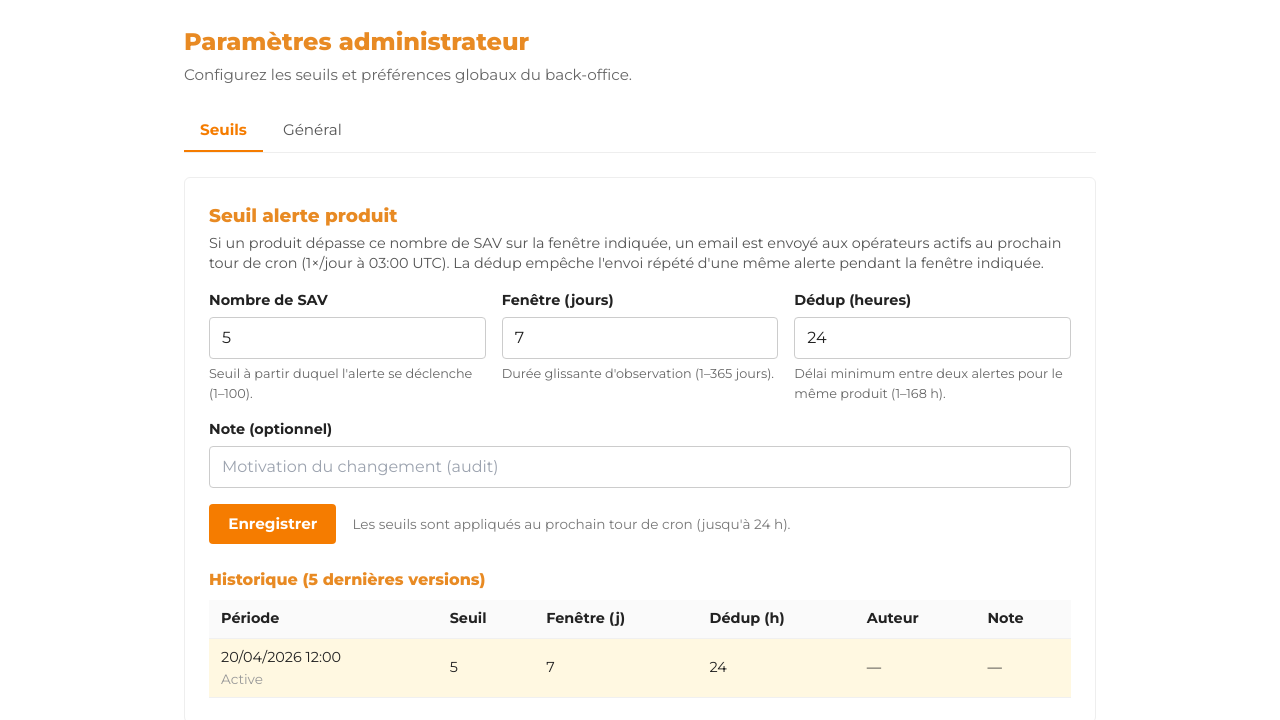
it: SettingsAdminView (UI) › Click Enregistrer → PATCH appelé avec body correct + toast success
The width and height of the screenshot is (1280, 720).
// Modifier les valeurs et soumettre.
Step 1. Replace the text in the number field with id "threshold-count" with "8" → (347, 338), box [209,317,486,359]
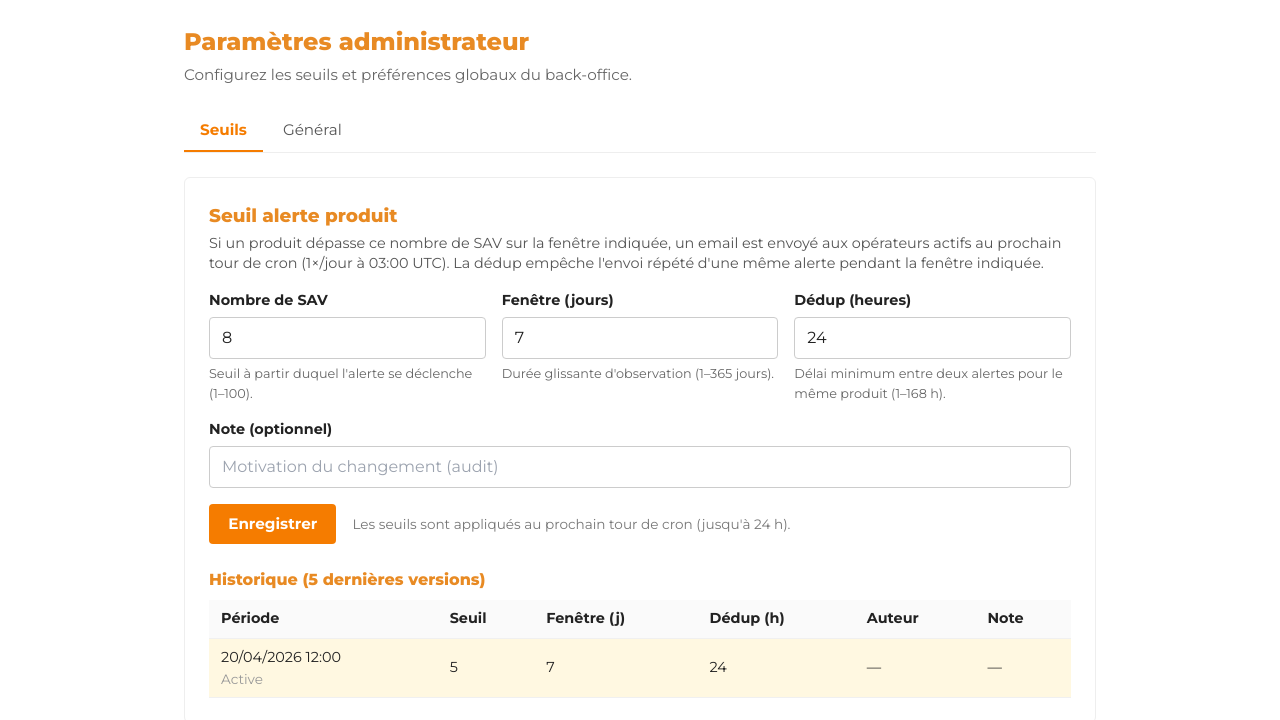
Step 2. Replace the text in the number field with id "threshold-days" with "14" → (640, 338), box [502,317,778,359]
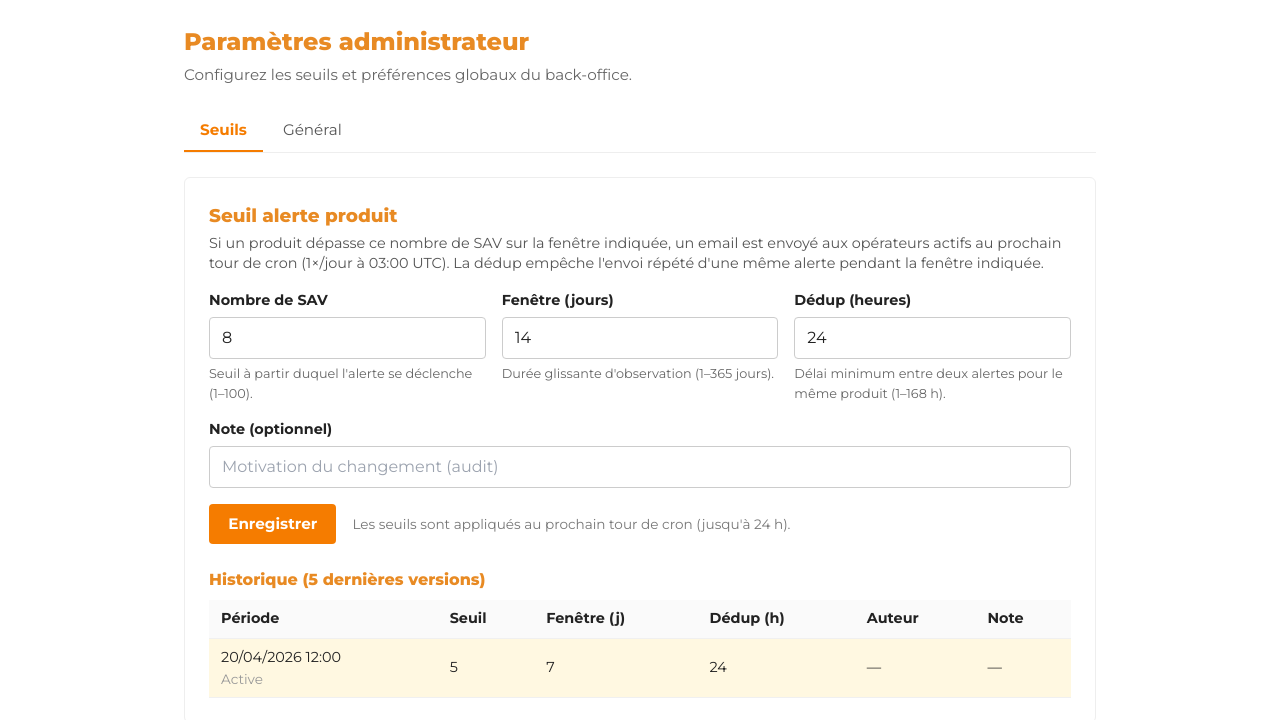
Step 3. Replace the text in the number field with id "threshold-dedup" with "48" → (933, 338), box [794,317,1071,359]
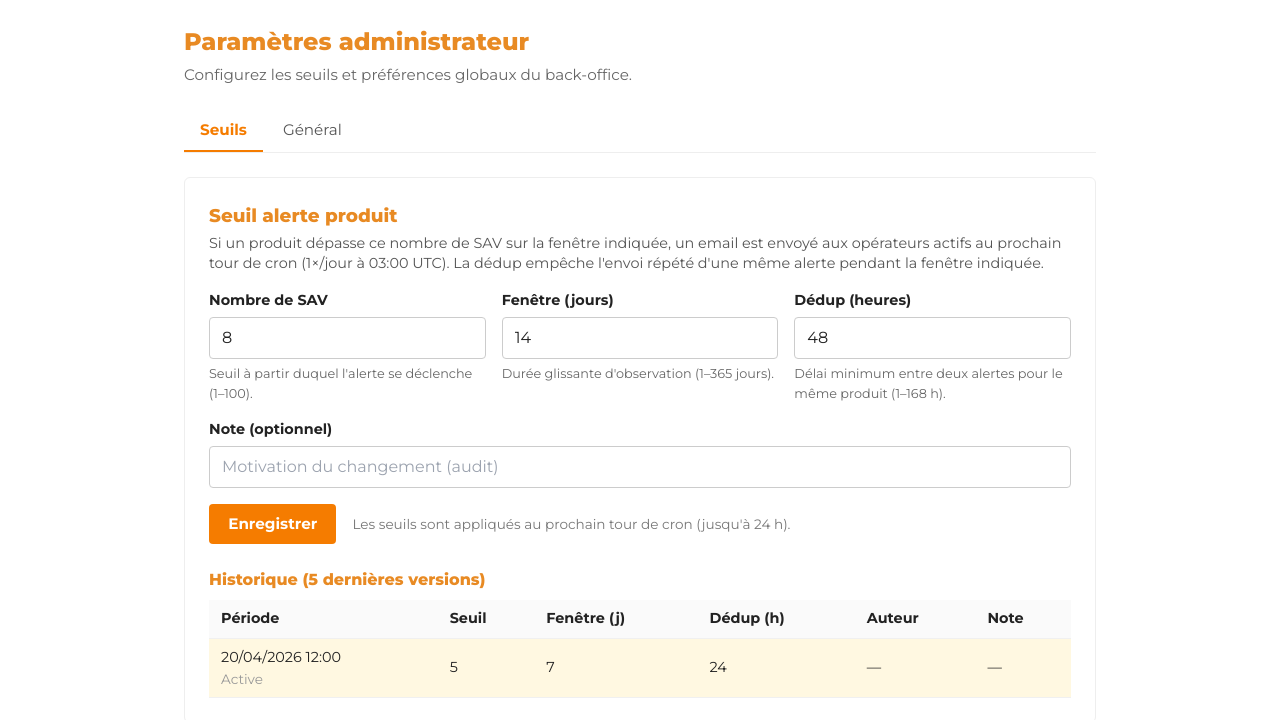
Step 4. Type "tighten" into the field with id "threshold-notes" → (640, 467), box [209,446,1071,488]
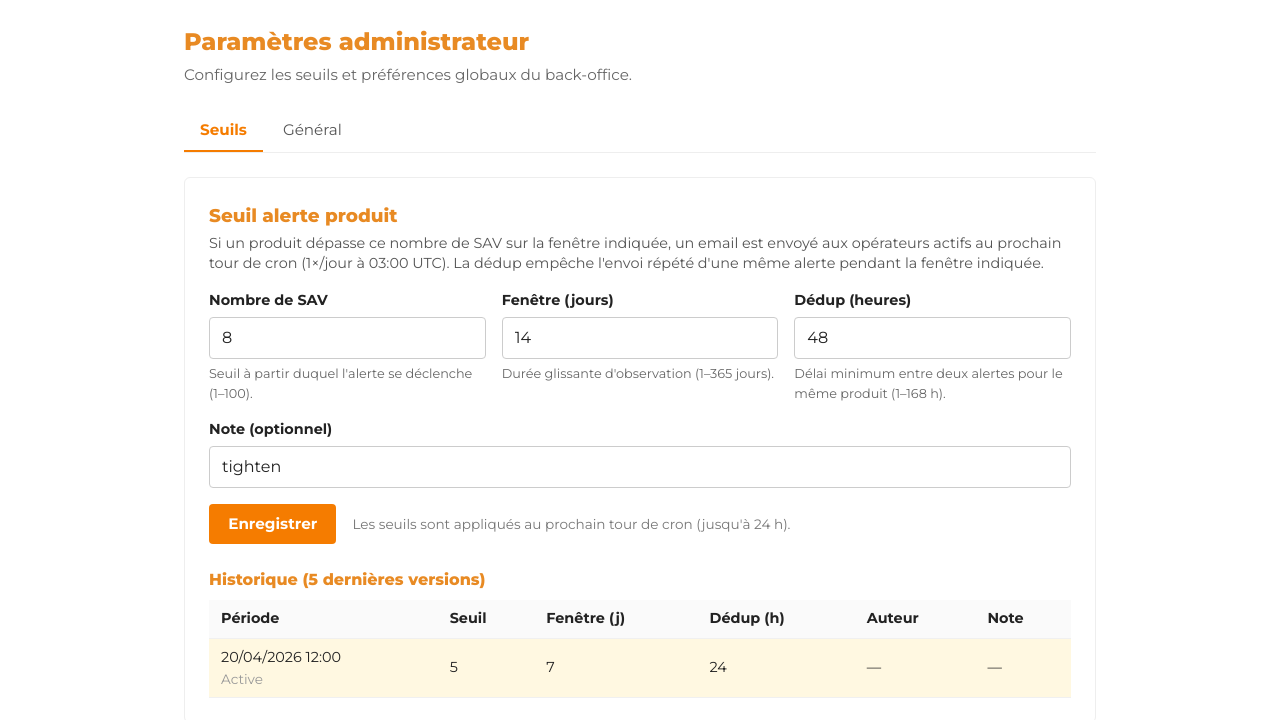
Step 5. Submit the form with class "form", box [209,290,1071,544]
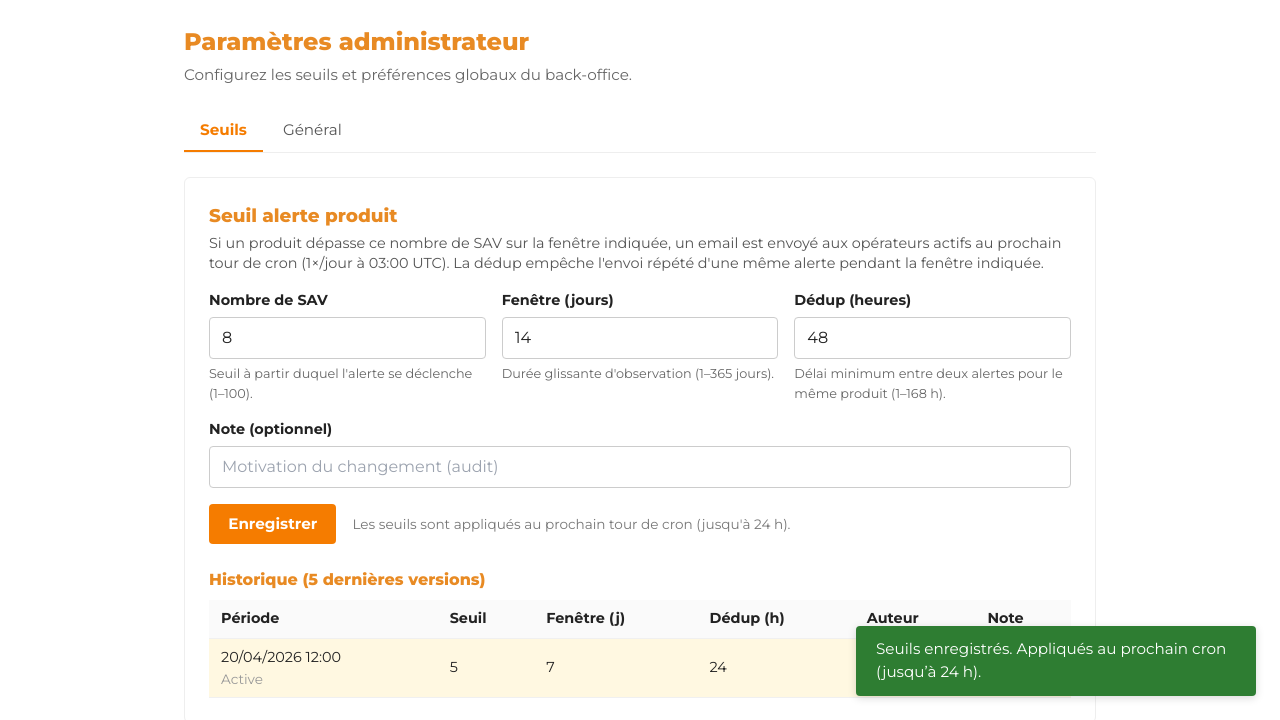
Expected: the message "Seuils enregistrés. Appliqués au prochain cron (jusqu’à 24 h)." is shown, [856,626,1256,696]
Expected: the message with class "success" shows "Seuils enregistrés", [876,639,1226,681]
